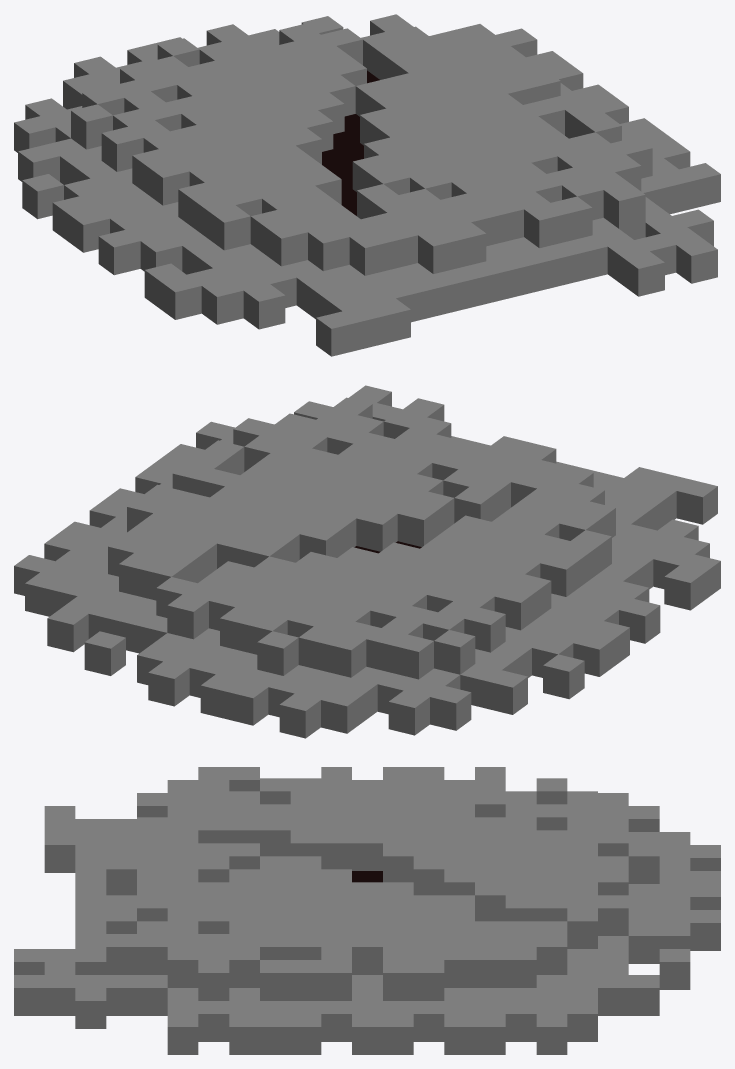
Rendered from obstacle.obj.
3 renders of one model, top to bottom at view 1: azimuth 30°, elevation 25°; view 2: azimuth 150°, elevation 25°; view 3: azimuth 270°, elevation 25°, orthographic.
Bounding box in the file's own units: 2 × 0.2 × 2.3.
1 material, 1 textured.
